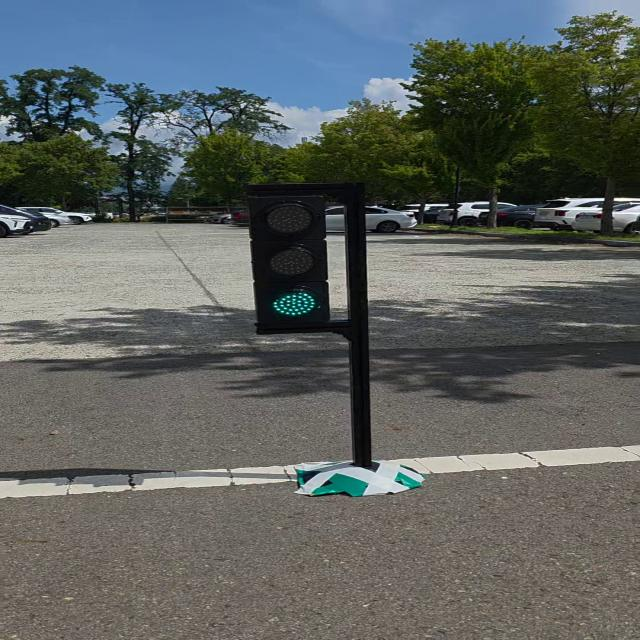green: (253, 188, 330, 330)
